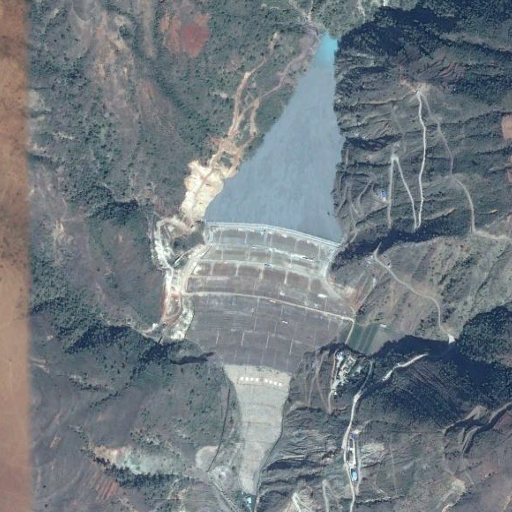tp: (183, 29, 351, 489)
